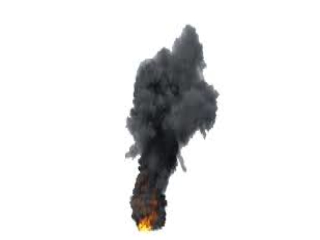fire: (134, 210, 165, 233)
smoke: (120, 28, 219, 217)
